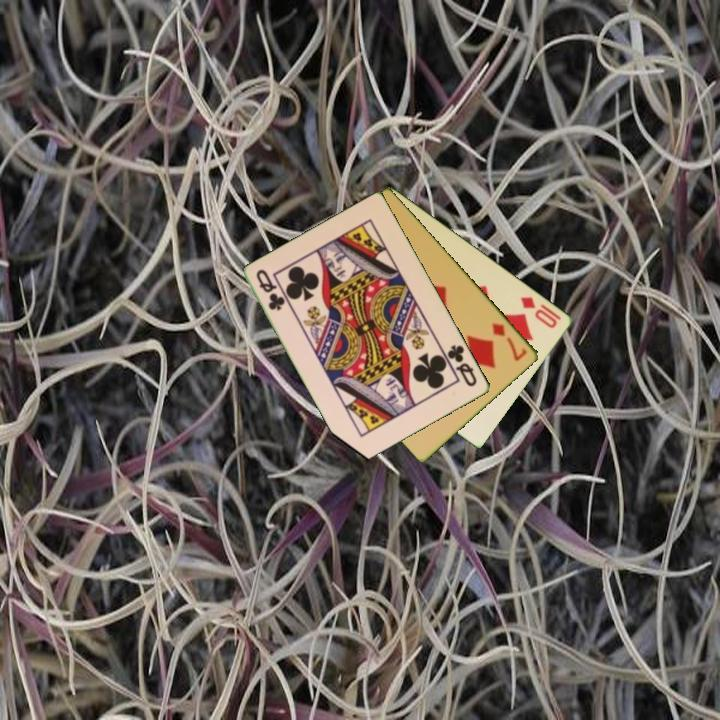10d: (517, 293, 561, 331)
7d: (489, 319, 530, 364)
Qc: (444, 341, 480, 390), (253, 266, 288, 314)
